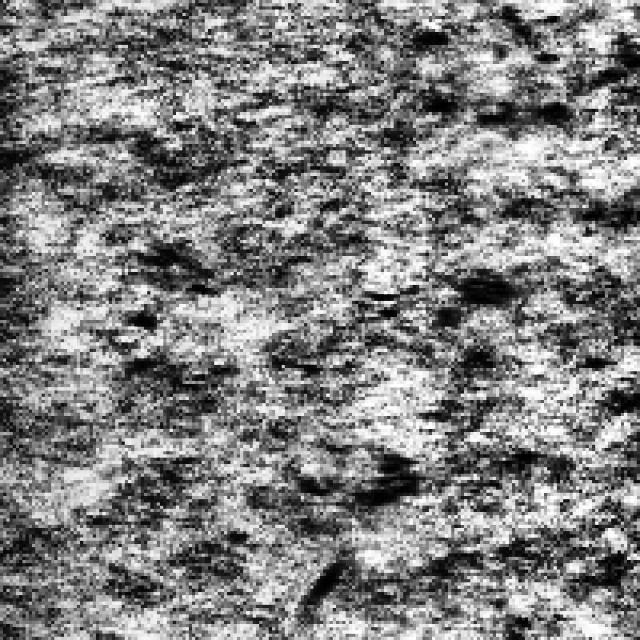Crazing: (406, 3, 612, 115), (112, 234, 227, 390), (285, 426, 416, 518)
